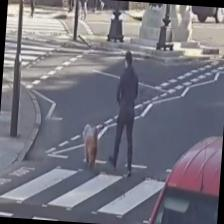person: (107, 51, 140, 175)
